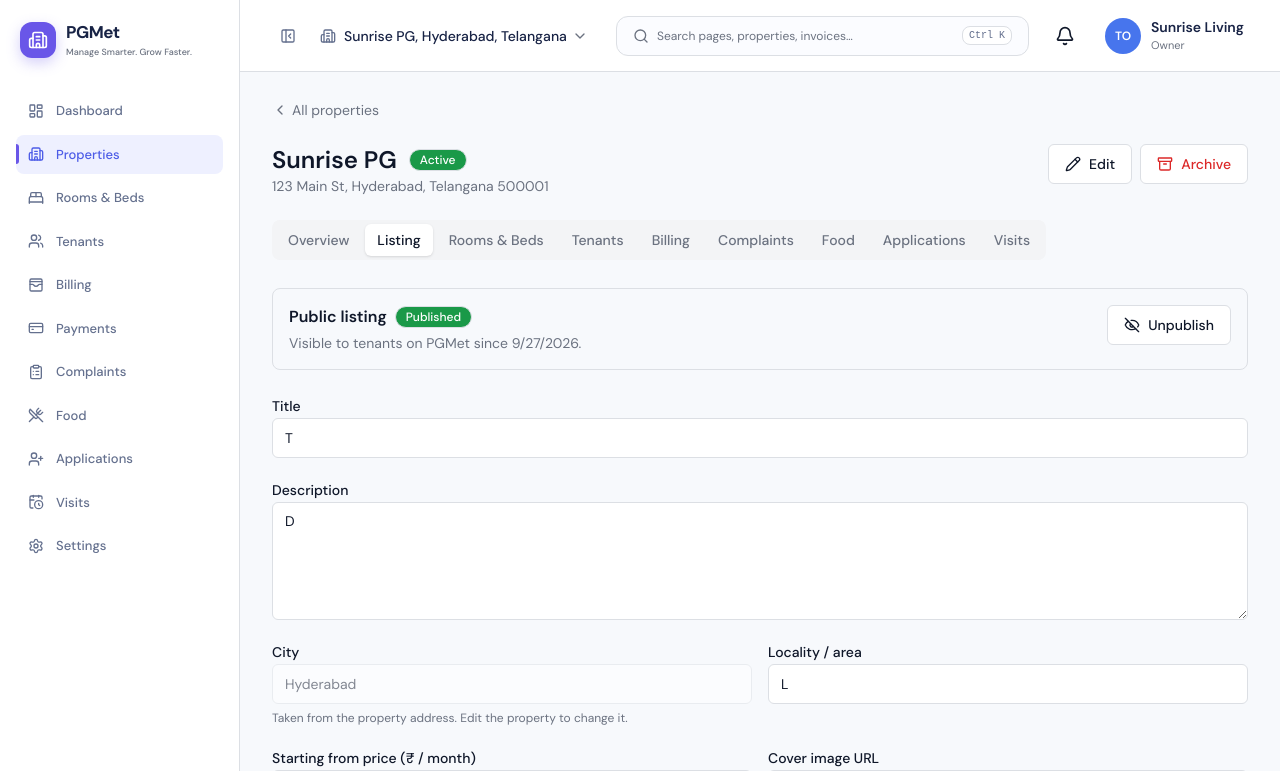
Test: Property → Listing tab › unpublishes after confirmation
Click the button "Unpublish" at (1169, 325), box [1107, 305, 1231, 345]
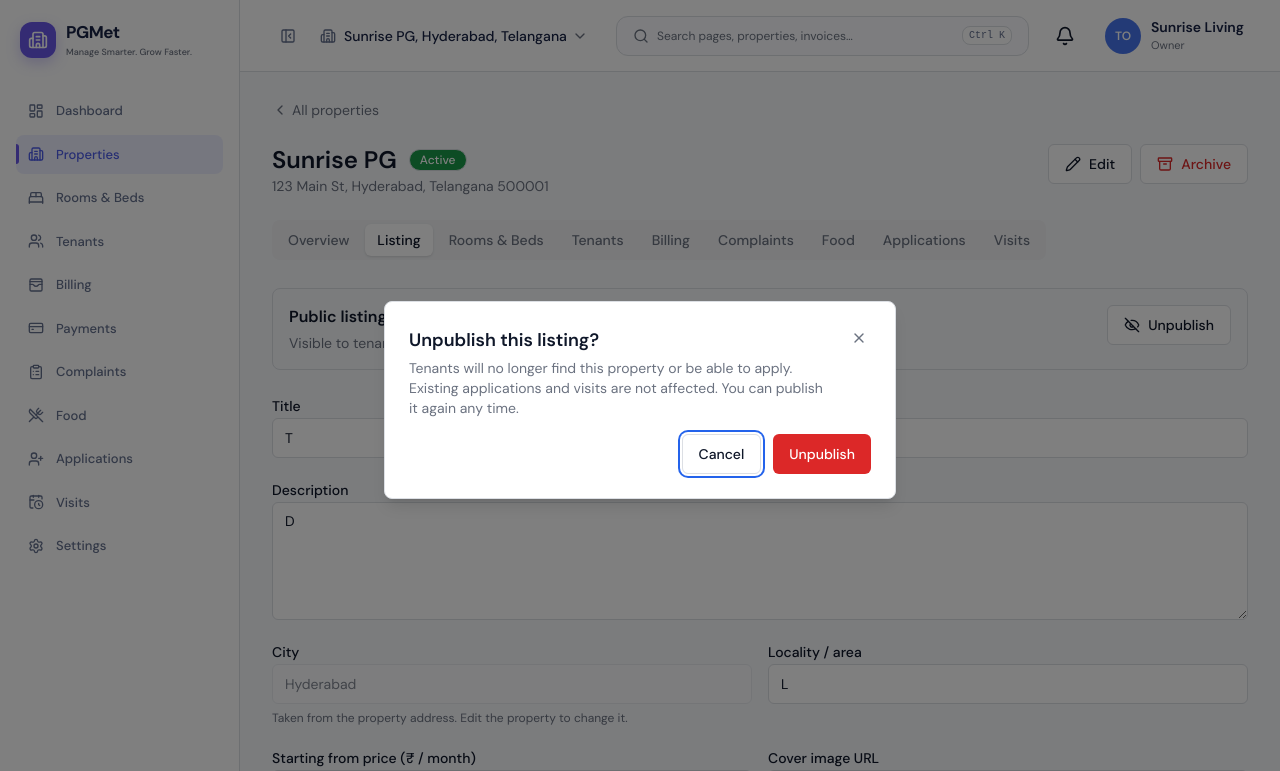
Click the button "Unpublish" at (822, 454), box [773, 434, 871, 474]
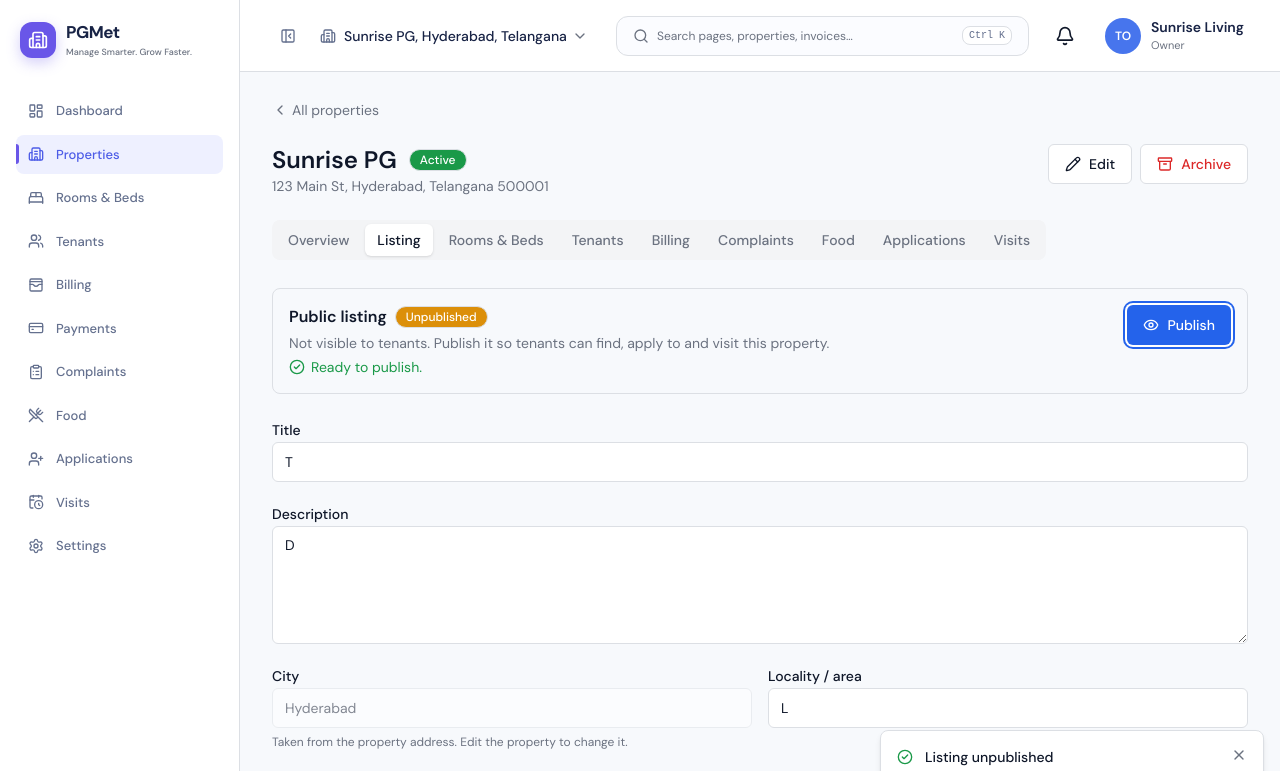
Check: the text "Unpublished" is shown, box [395, 306, 488, 328]
